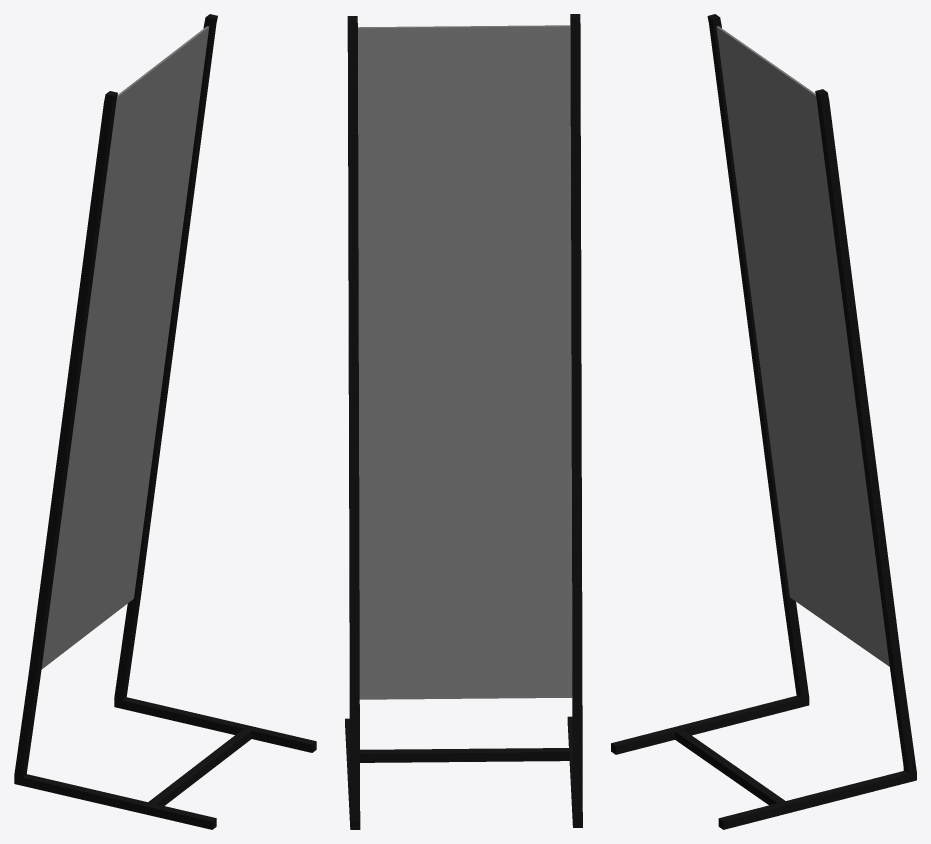
The model's file is mirror1.fbx.
The picture shows the model from 3 angles, left to right: view 1: azimuth 30°, elevation 25°; view 2: azimuth 150°, elevation 25°; view 3: azimuth 270°, elevation 25°; orthographic projection. The views are drawn at different scales.
Parts seen in each view (by area): view 1: mirror1; view 2: mirror1; view 3: mirror1.
Boxes of the visible parts, box(x1,y1,x2,y2) form: mirror1: box(14, 14, 316, 829); mirror1: box(345, 14, 582, 829); mirror1: box(611, 14, 916, 829).
Size of the model in its own units: 25.82 by 66.93 by 26.09.
